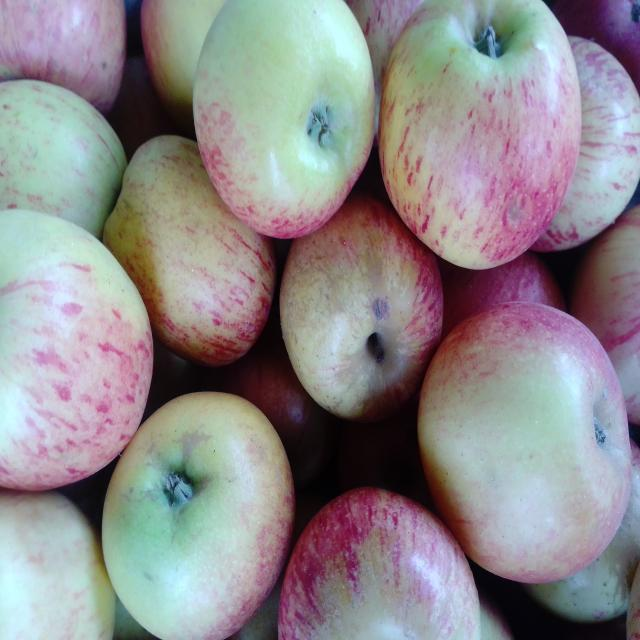Fresh Apple: (382, 10, 585, 298), (437, 308, 620, 578), (267, 202, 458, 416), (0, 218, 151, 485), (206, 0, 378, 226), (120, 152, 278, 372), (128, 402, 278, 616)
